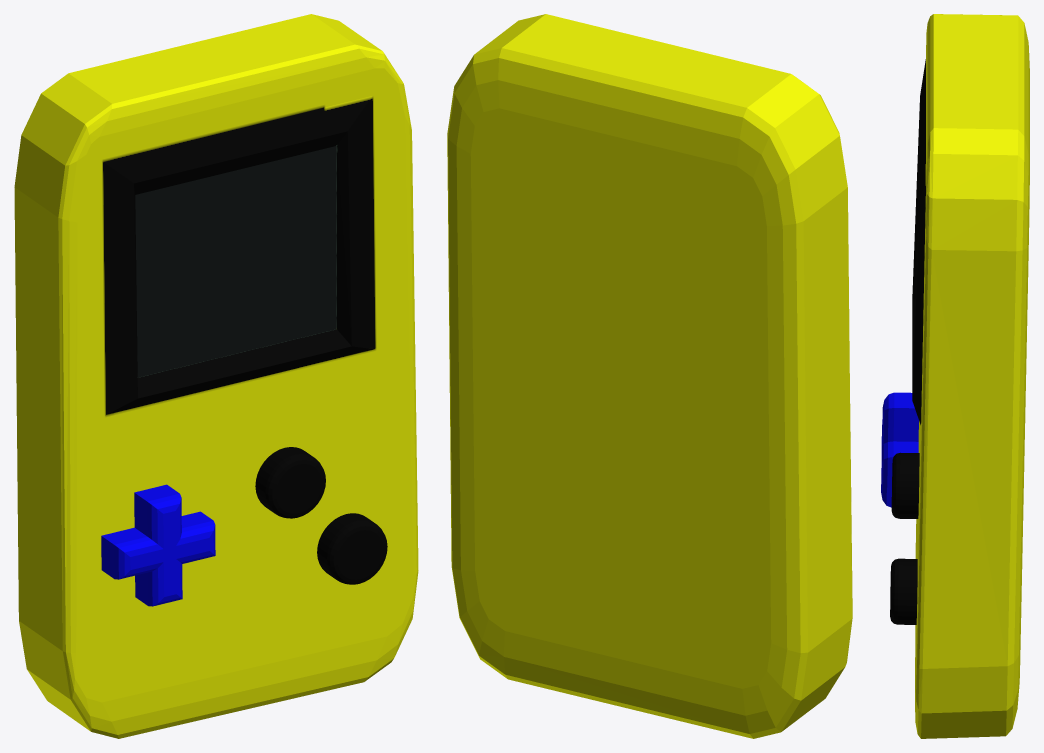
The model's file is SM_TD2_Handheld_Classic.fbx.
3 views of the same model, side by side, from view 1: azimuth 30°, elevation 25°; view 2: azimuth 150°, elevation 25°; view 3: azimuth 270°, elevation 25° (orthographic). The views are drawn at different scales.
Visible parts, largest first — view 1: SM_TD2_Handheld_Classic__Body, SM_TD2_Handheld_Classic__Screen; view 2: SM_TD2_Handheld_Classic__Body; view 3: SM_TD2_Handheld_Classic__Body.
Part boxes in pixels (left/top/right/bottom): SM_TD2_Handheld_Classic__Body: left=14, top=14, right=418, bottom=738; SM_TD2_Handheld_Classic__Screen: left=135, top=146, right=336, bottom=377; SM_TD2_Handheld_Classic__Body: left=447, top=14, right=852, bottom=738; SM_TD2_Handheld_Classic__Body: left=881, top=14, right=1029, bottom=738.
Size of the model in its own units: 0.8491 by 1.45 by 0.3204.
Materials: 2 (1 with a texture image).
